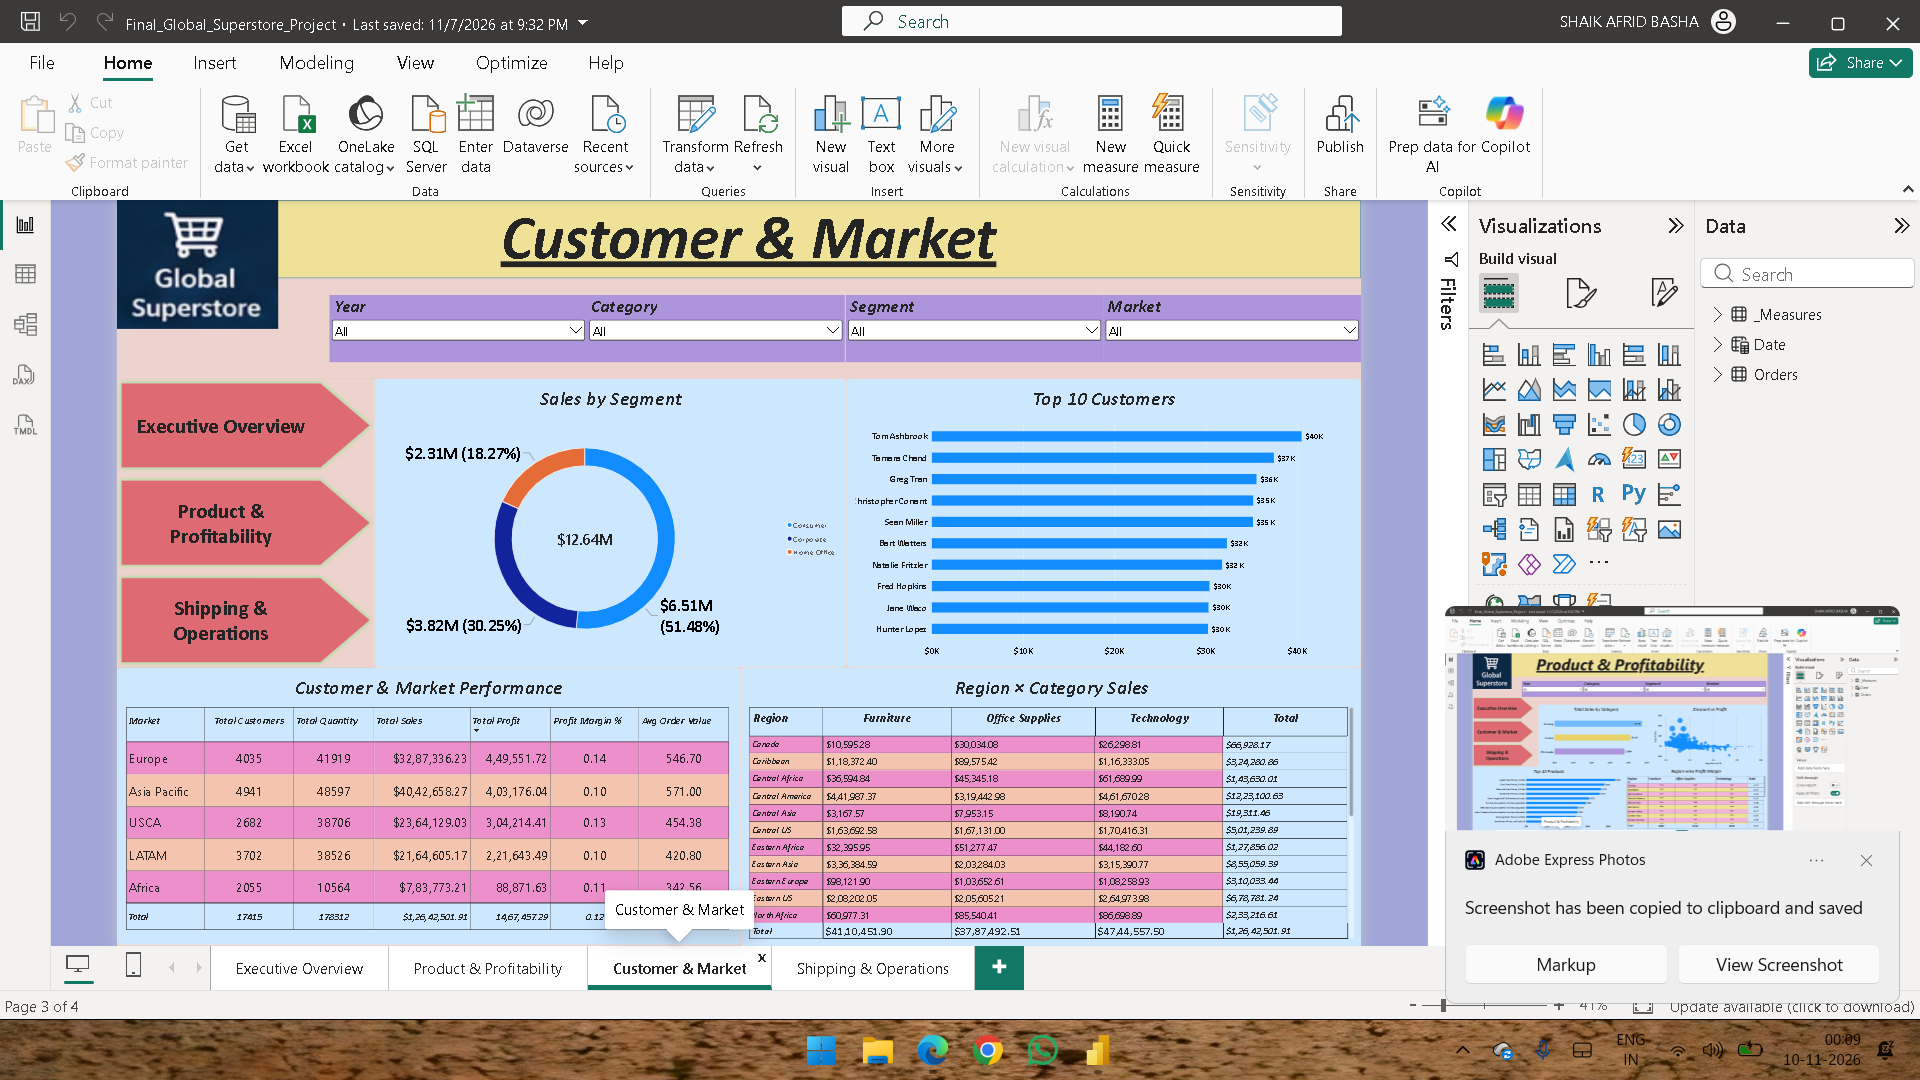

Layout of this report page (visuals, bound fields, positions):
{"tool":"powerbi","page":{"name":"Customer & Market","canvas":[2400,1440],"ordinal":2},"visuals":[{"type":"donutChart","title":" Sales by Segment","fields":{"Category":["Orders.Segment"],"Y":["_Measures.Total Sales"]},"box":[497.4,346,911.1,556.9],"z":0},{"type":"clusteredBarChart","title":" Top 10 Customers","fields":{"Category":["Orders.Customer Name"],"Y":["_Measures.Total Sales"]},"box":[1408.5,346,992.2,556.9],"z":1000},{"type":"tableEx","title":"Customer & Market Performance","fields":{"Values":["Orders.Market","_Measures.Total Customers","_Measures.Total Quantity","_Measures.Total Sales","_Measures.Total Profit","_Measures.Profit Margin %","_Measures.Avg Order Value"]},"box":[0,902.9,1203,535.3],"z":2000},{"type":"pivotTable","title":" Region × Category Sales ","fields":{"Columns":["Orders.Category"],"Rows":["Orders.Region"],"Values":["_Measures.Total Sales"]},"box":[1203,902.9,1200.3,540.7],"z":3000},{"type":"slicer","fields":{"Values":["Date.Year"]},"box":[410.9,183.8,497.4,129.8],"z":4000},{"type":"slicer","fields":{"Values":["Orders.Category"]},"box":[908.4,183.8,497.4,129.8],"z":5000},{"type":"slicer","fields":{"Values":["Orders.Market"]},"box":[1903.2,183.8,497.4,129.8],"z":6000},{"type":"slicer","fields":{"Values":["Orders.Segment"]},"box":[1405.8,183.8,497.4,129.8],"z":7000},{"type":"shape","box":[0,0,2401,151],"z":8000},{"type":"textbox","box":[359.6,0,1586.9,151.4],"z":9000},{"type":"pageNavigator","box":[0,346,497.4,556.9],"z":10000},{"type":"image","box":[0,0,311.3,248.5],"z":11000}]}

Visuals, with their boxes on the page's 2400x1440 design canvas (x1, y1, x2, y2). These are canvas units, not pixel positions in the 1920x1080 screenshot, which may show the page scaled, cropped or inside an application window:
" Sales by Segment" donutChart: [x1=497, y1=346, x2=1408, y2=903]
" Top 10 Customers" clusteredBarChart: [x1=1408, y1=346, x2=2401, y2=903]
"Customer & Market Performance" tableEx: [x1=0, y1=903, x2=1203, y2=1438]
" Region × Category Sales " pivotTable: [x1=1203, y1=903, x2=2403, y2=1444]
slicer - Date.Year: [x1=411, y1=184, x2=908, y2=314]
slicer - Orders.Category: [x1=908, y1=184, x2=1406, y2=314]
slicer - Orders.Market: [x1=1903, y1=184, x2=2401, y2=314]
slicer - Orders.Segment: [x1=1406, y1=184, x2=1903, y2=314]
shape: [x1=0, y1=0, x2=2401, y2=151]
textbox: [x1=360, y1=0, x2=1946, y2=151]
pageNavigator: [x1=0, y1=346, x2=497, y2=903]
image: [x1=0, y1=0, x2=311, y2=248]
